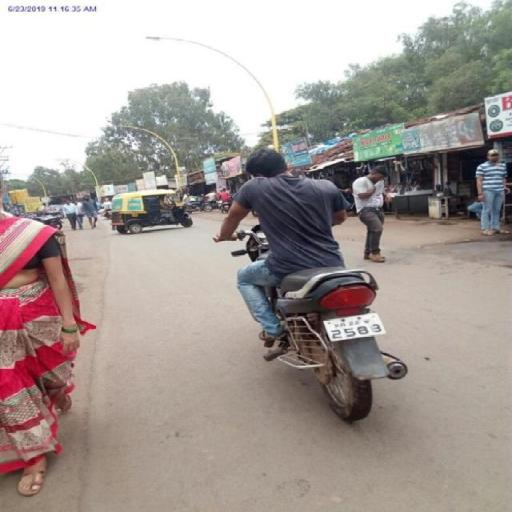bike: (155, 114, 430, 456)
numberplate: (320, 304, 390, 346)
using mobile: (252, 176, 272, 182)
withouthelmet: (244, 143, 292, 178)
